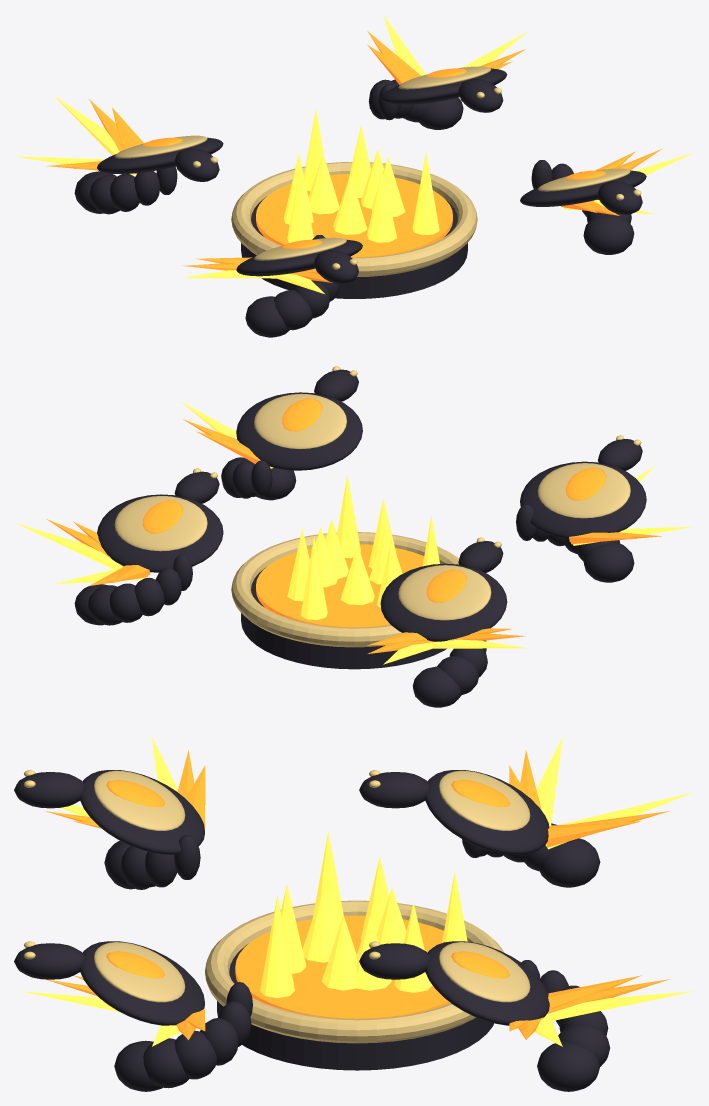
Rendered from SM_Keeper_Seraphs.fbx.
3 views of the same model, one above another, from view 1: azimuth 30°, elevation 25°; view 2: azimuth 150°, elevation 25°; view 3: azimuth 270°, elevation 25° (orthographic). The views are drawn at different scales.
Visible parts, largest first — view 1: SM_Keeper_Seraphs; view 2: SM_Keeper_Seraphs; view 3: SM_Keeper_Seraphs.
Part boxes in pixels (x1,y1,x2,y2): SM_Keeper_Seraphs: (16,15,693,337); SM_Keeper_Seraphs: (15,366,693,707); SM_Keeper_Seraphs: (14,737,693,1091).
Bounding box in the file's own units: 6.03 × 1.37 × 5.58.
